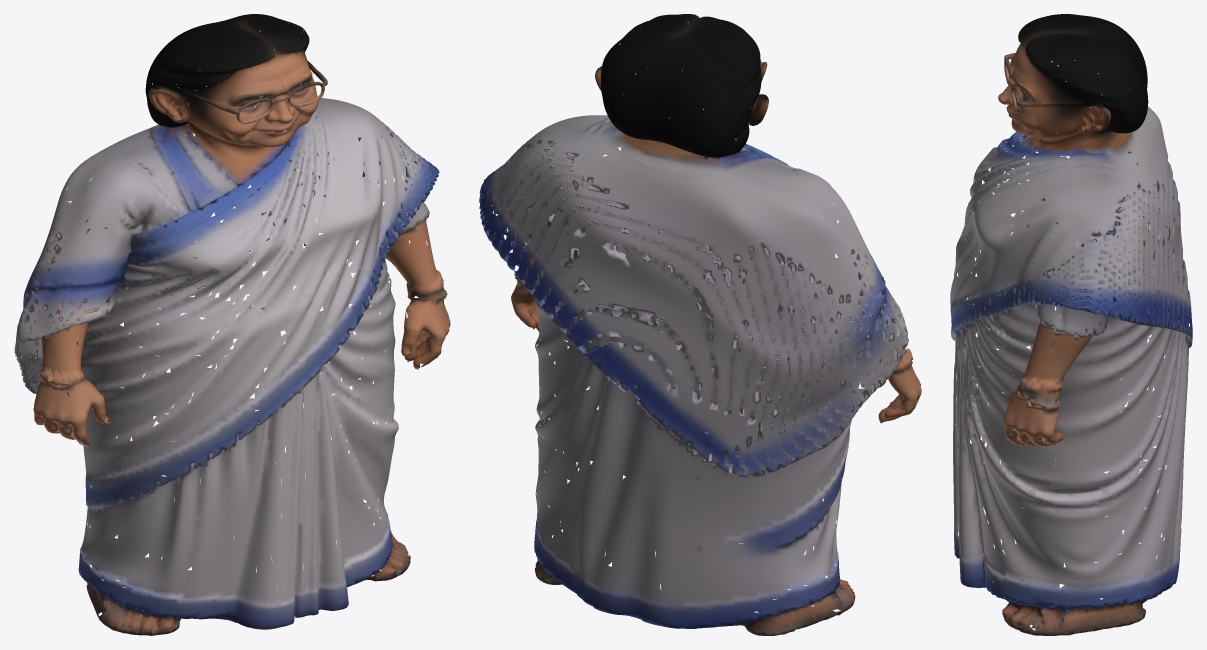
Rendered from mamata.glb.
3 renders of one model, left to right at view 1: azimuth 30°, elevation 25°; view 2: azimuth 150°, elevation 25°; view 3: azimuth 270°, elevation 25°, orthographic. The views are drawn at different scales.
Size of the model in its own units: 1.45 by 1.82 by 0.7454.
